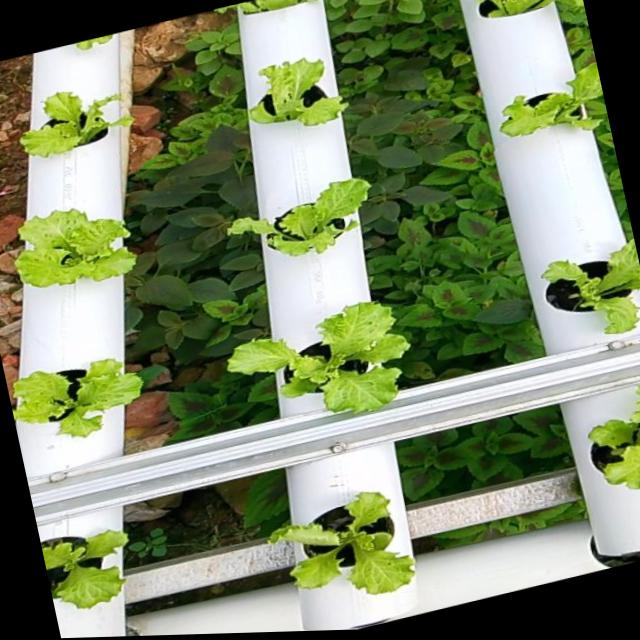Baby: (219, 307, 399, 415), (259, 494, 404, 596), (528, 239, 640, 339), (218, 184, 360, 261), (7, 362, 135, 440), (7, 214, 129, 292), (487, 66, 604, 144), (13, 99, 126, 163), (575, 385, 640, 491), (239, 66, 338, 133), (41, 532, 119, 610), (431, 0, 583, 27)
